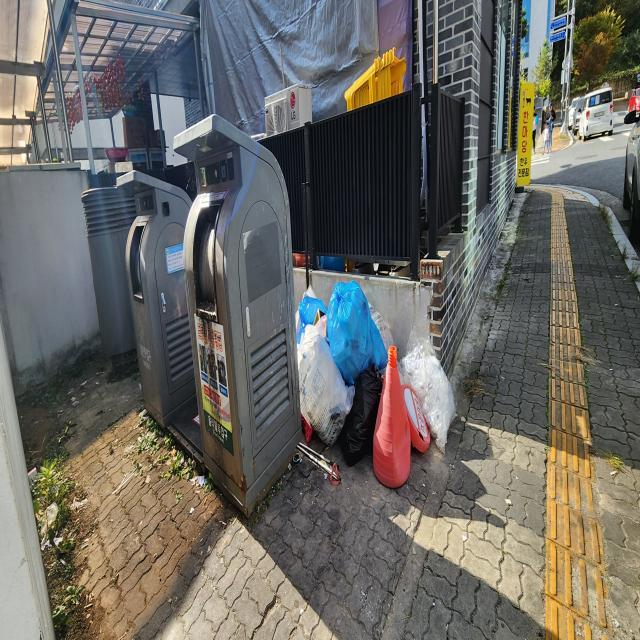CleanNet: (170, 108, 315, 514), (107, 161, 206, 431)
General Waste: (293, 305, 368, 441), (323, 268, 396, 398)
